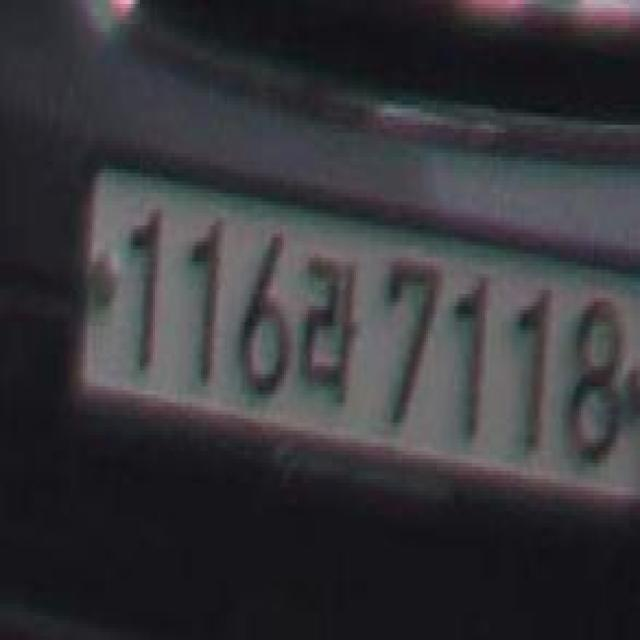illegal_plate: (69, 149, 638, 535)
